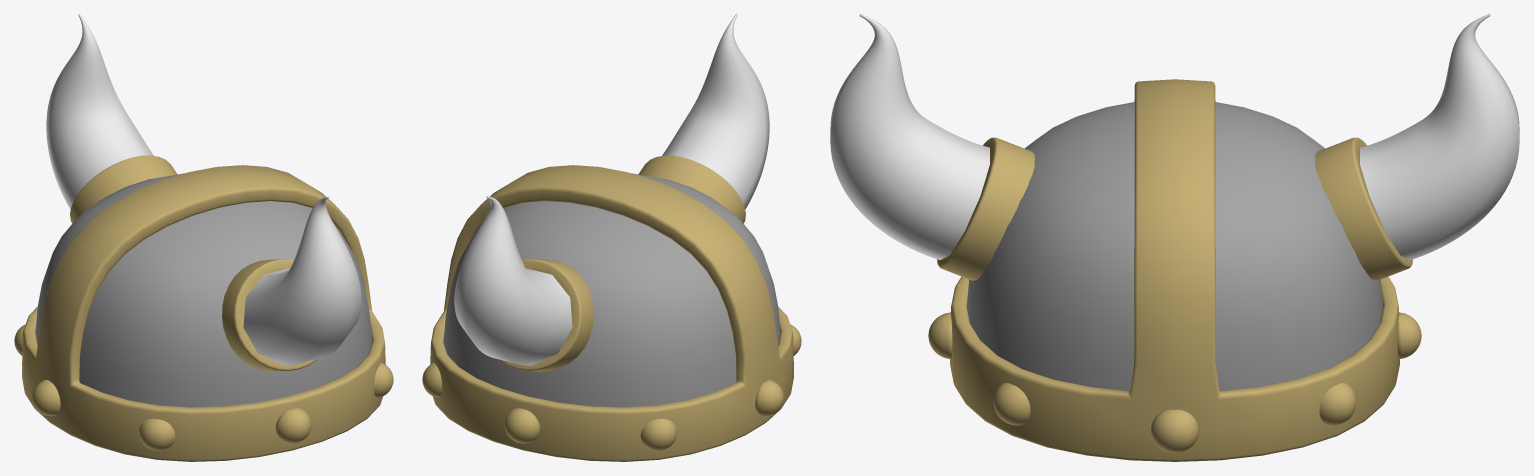
File: VikingHelmet.fbx
3 views of the same model, side by side, from view 1: azimuth 30°, elevation 25°; view 2: azimuth 150°, elevation 25°; view 3: azimuth 270°, elevation 25° (orthographic). The views are drawn at different scales.
Visible parts, largest first — view 1: VikingHelmet; view 2: VikingHelmet; view 3: VikingHelmet.
Part boxes in pixels (<box>): VikingHelmet: <box>14,14,393,461</box>; VikingHelmet: <box>422,14,801,461</box>; VikingHelmet: <box>830,14,1519,461</box>.
Size of the model in its own units: 216 by 171 by 302.
